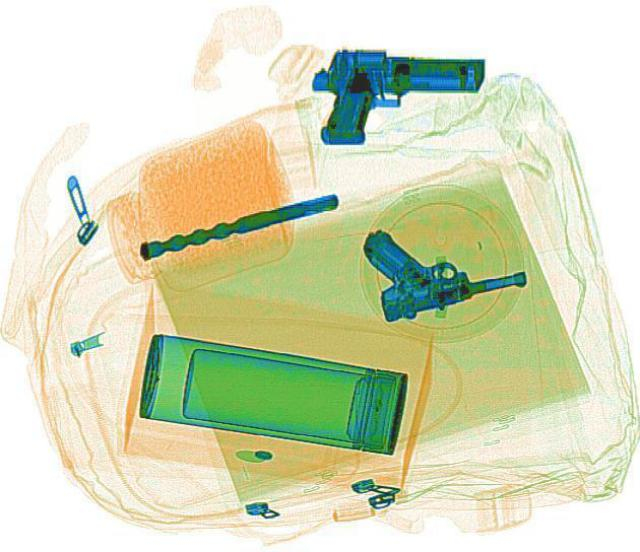Gun: (350, 199, 530, 319), (305, 45, 485, 148)
